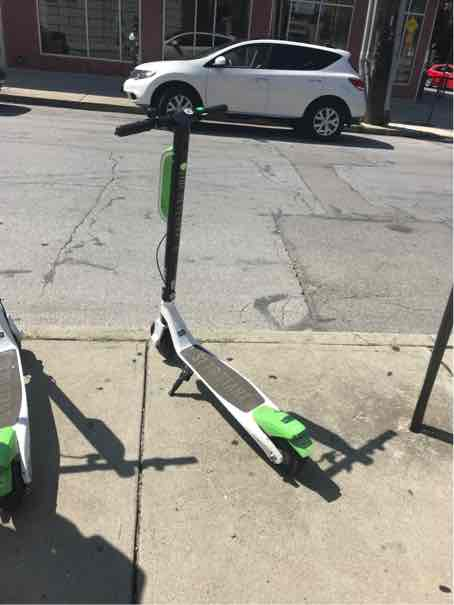scooter: (111, 99, 339, 482)
